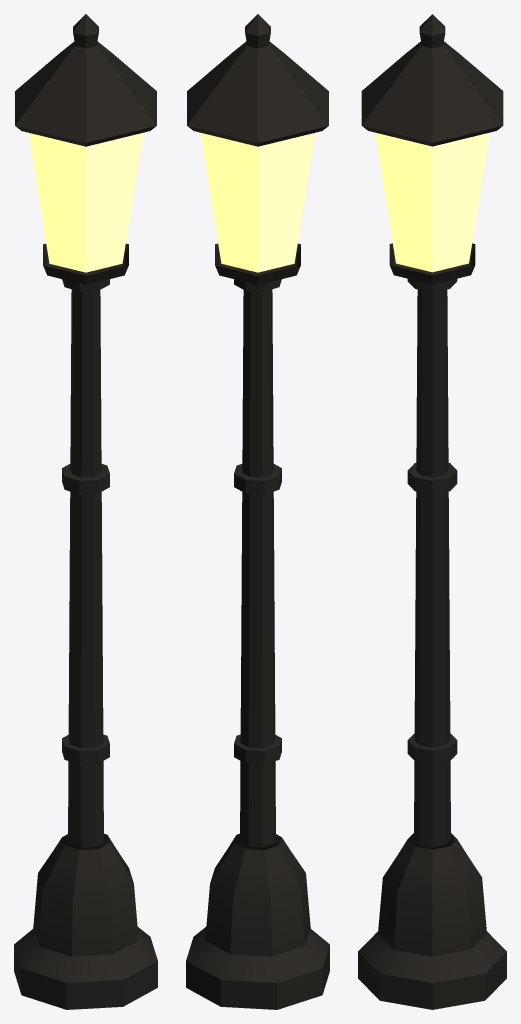
3 renders of one model, left to right at view 1: azimuth 30°, elevation 25°; view 2: azimuth 150°, elevation 25°; view 3: azimuth 270°, elevation 25°, orthographic.
Parts seen in each view (by area): view 1: lamp.lod1; view 2: lamp.lod1; view 3: lamp.lod1.
Part boxes in pixels (bbox=[...]): lamp.lod1: bbox=[14, 14, 157, 1009]; lamp.lod1: bbox=[186, 14, 329, 1009]; lamp.lod1: bbox=[358, 14, 506, 1009].
Size of the model in its own units: 0.6599 by 4.29 by 0.6002.
